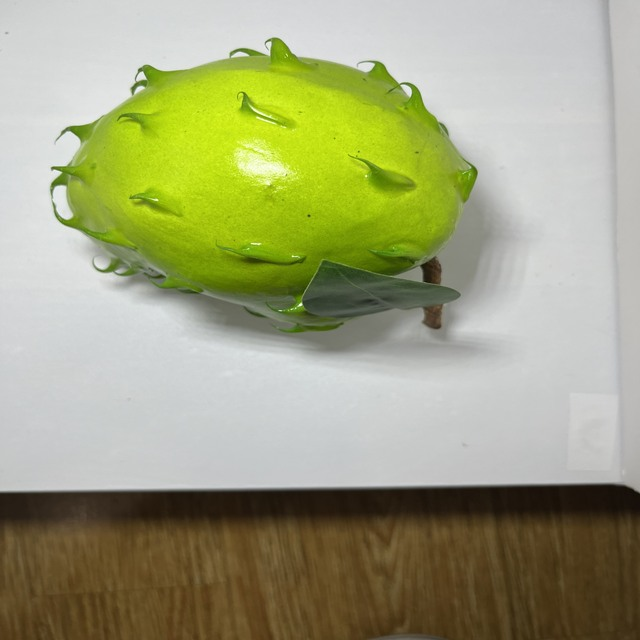Man cau: (44, 28, 495, 348)
